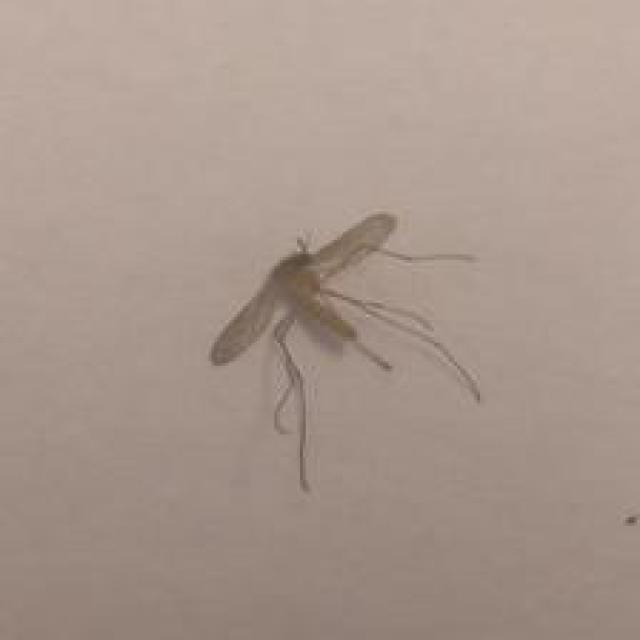Culex: (208, 210, 483, 493)
